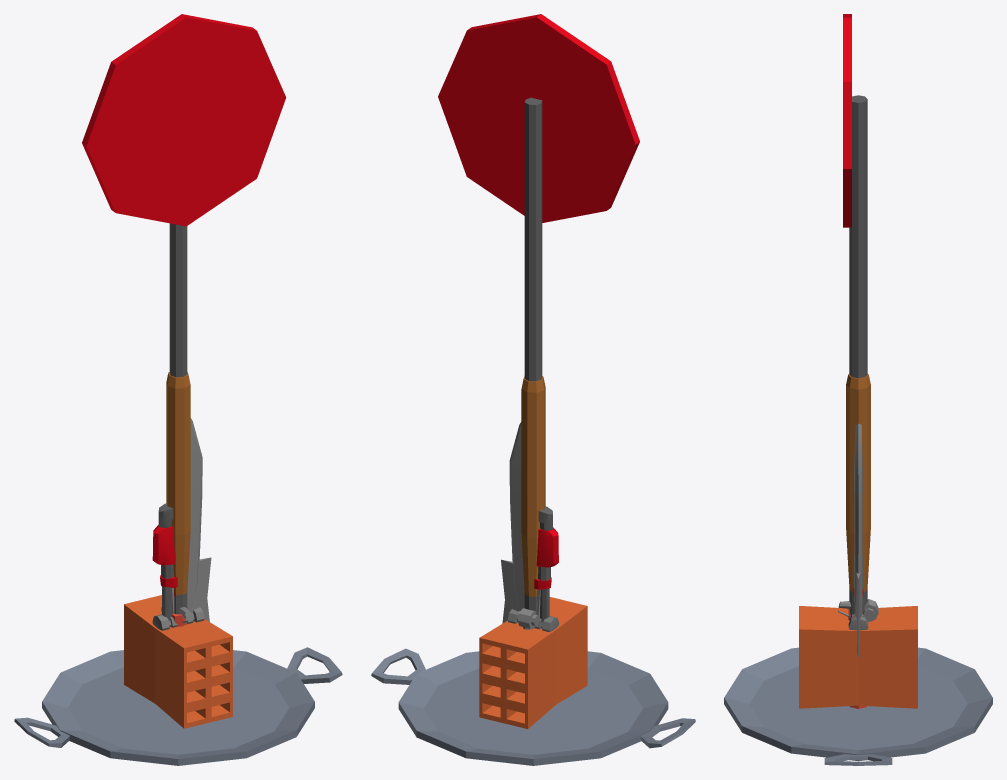
File: iteses.fbx
3 renders of one model, left to right at view 1: azimuth 30°, elevation 25°; view 2: azimuth 150°, elevation 25°; view 3: azimuth 270°, elevation 25°, orthographic.
Parts seen in each view (by area): view 1: pare, prato, tijolo, pal, facão, chave inglesa, cutelo; view 2: pare, prato, tijolo, pal, facão, chave inglesa, cutelo; view 3: prato, tijolo, pare, pal, facão.
Boxes of the visible parts, x1=… form: pare: x1=82, y1=14, x2=286, y2=619; prato: x1=14, y1=647, x2=342, y2=765; tijolo: x1=124, y1=595, x2=232, y2=728; pal: x1=166, y1=371, x2=190, y2=594; facão: x1=171, y1=418, x2=202, y2=626; chave inglesa: x1=152, y1=503, x2=177, y2=620; cutelo: x1=171, y1=557, x2=211, y2=621; pare: x1=438, y1=14, x2=639, y2=614; prato: x1=371, y1=648, x2=695, y2=765; tijolo: x1=479, y1=597, x2=587, y2=728; pal: x1=521, y1=376, x2=545, y2=596; facão: x1=509, y1=422, x2=539, y2=628; chave inglesa: x1=534, y1=506, x2=558, y2=622; cutelo: x1=501, y1=559, x2=540, y2=623; prato: x1=724, y1=647, x2=992, y2=765; tijolo: x1=799, y1=606, x2=917, y2=708; pare: x1=843, y1=14, x2=867, y2=615; pal: x1=846, y1=374, x2=870, y2=591; facão: x1=848, y1=423, x2=866, y2=708.
Bounding box in the file's own units: 94.96 × 216 × 74.09.
